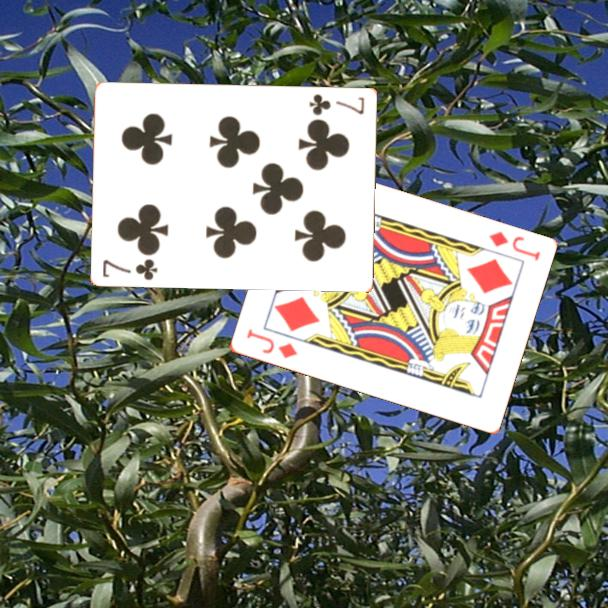c07: (306, 90, 367, 118), (100, 255, 161, 283)
d11: (242, 326, 300, 362), (485, 228, 543, 264)
